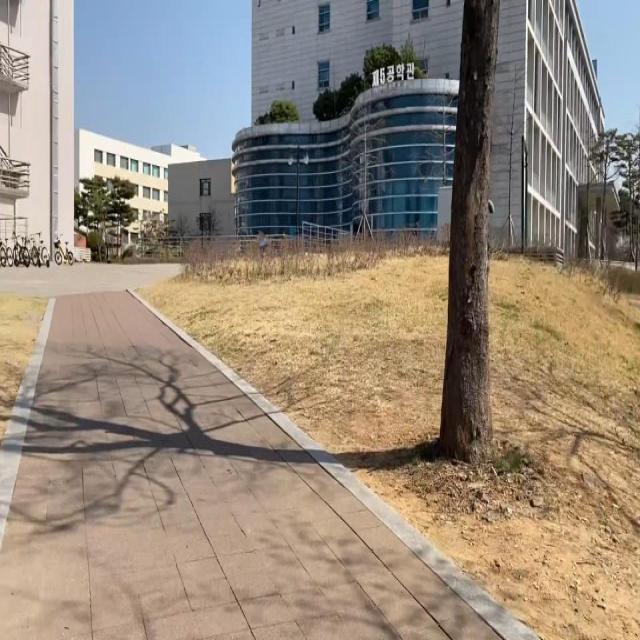sidewalk: (0, 292, 498, 639)
